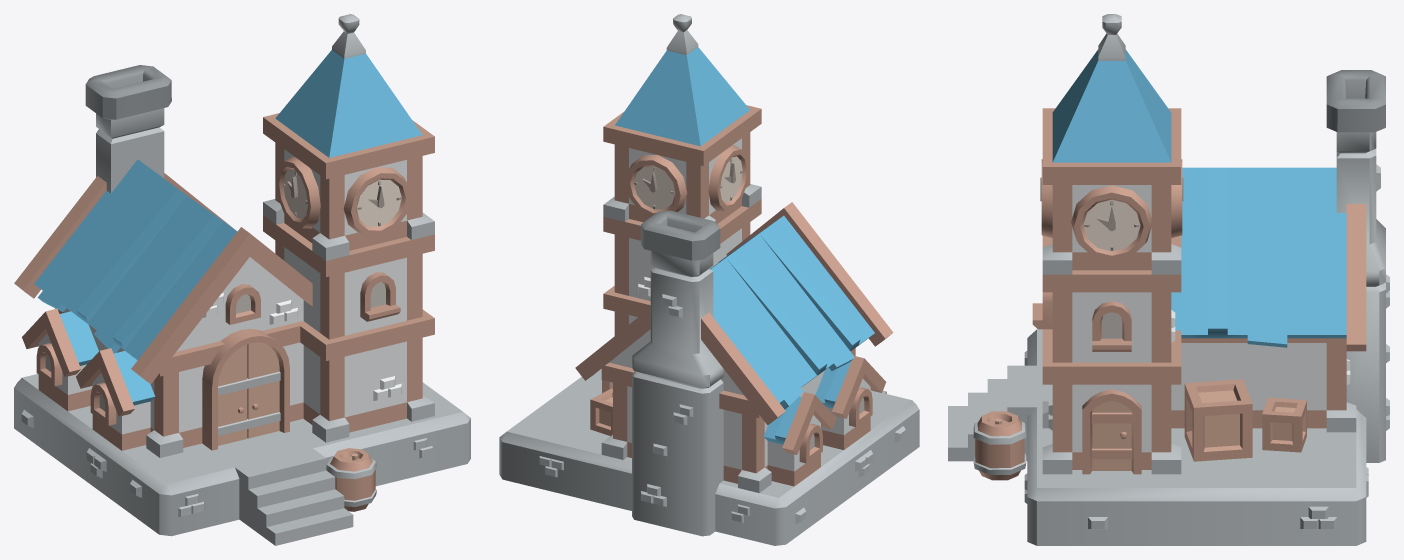
The model's file is townhall_part.glb.
3 views of the same model, side by side, from view 1: azimuth 30°, elevation 25°; view 2: azimuth 150°, elevation 25°; view 3: azimuth 270°, elevation 25° (orthographic). The views are drawn at different scales.
Parts seen in each view (by area): view 1: X_building_townhall_blue; view 2: X_building_townhall_blue; view 3: X_building_townhall_blue.
Part boxes in pixels (x1=…): X_building_townhall_blue: x1=14, y1=14, x2=470, y2=545; X_building_townhall_blue: x1=499, y1=14, x2=919, y2=545; X_building_townhall_blue: x1=948, y1=14, x2=1389, y2=545.
Bounding box in the file's own units: 1.43 × 1.89 × 1.56.
